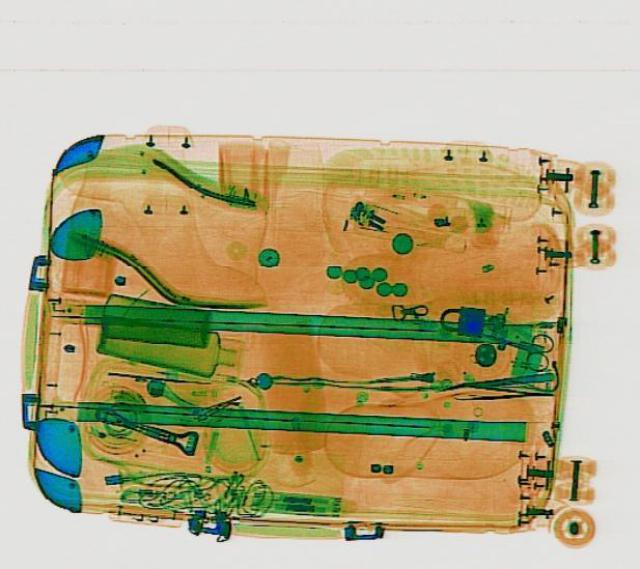Scissors: (476, 316, 560, 372)
